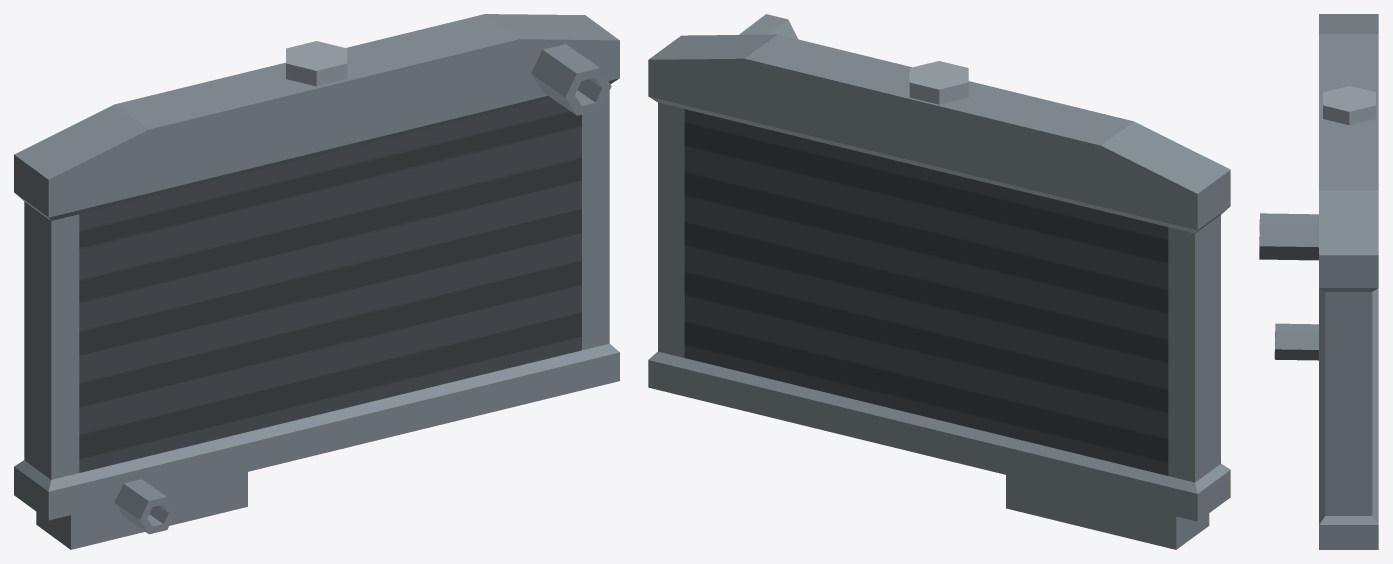
The model's file is SM_Prop_Radiator_01.fbx.
3 views of the same model, side by side, from view 1: azimuth 30°, elevation 25°; view 2: azimuth 150°, elevation 25°; view 3: azimuth 270°, elevation 25° (orthographic). The views are drawn at different scales.
Visible parts, largest first — view 1: SM_Prop_Radiator_01; view 2: SM_Prop_Radiator_01; view 3: SM_Prop_Radiator_01.
Part boxes in pixels (x1,y1,x2,y2): SM_Prop_Radiator_01: (14, 14, 619, 549); SM_Prop_Radiator_01: (648, 14, 1230, 549); SM_Prop_Radiator_01: (1259, 14, 1378, 549).
Size of the model in its own units: 62.76 by 43.77 by 13.13.
